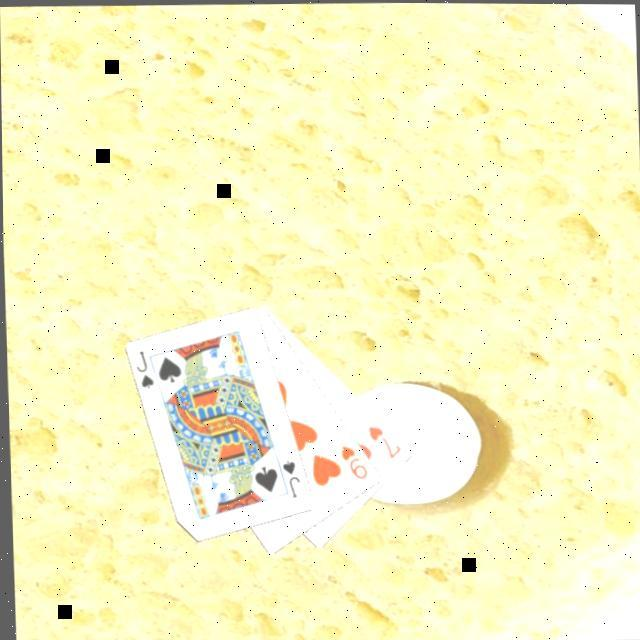7H: (364, 422, 404, 462)
9H: (337, 442, 370, 482)
JS: (277, 457, 303, 501), (132, 348, 158, 392)
